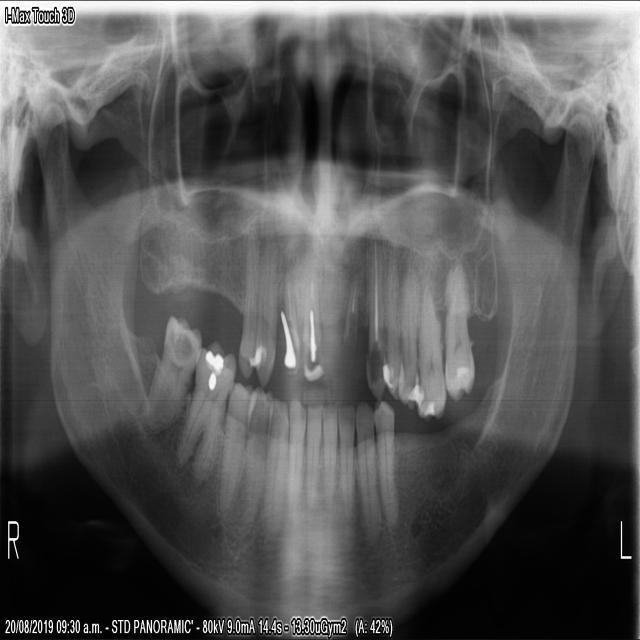LCD: (336, 393, 355, 520)
LCU: (360, 251, 392, 405)
LID: (317, 391, 337, 523), (300, 397, 322, 516)
LIU: (319, 269, 341, 379), (341, 267, 362, 355)
LMU: (416, 261, 446, 422), (443, 269, 476, 405)
LPMD: (353, 396, 382, 544), (372, 396, 400, 538)
LPMU: (397, 265, 421, 410), (381, 254, 403, 403)
RCD: (234, 383, 273, 531)
RCU: (254, 243, 279, 388)
RID: (258, 390, 287, 541), (283, 386, 307, 521)
RIU: (298, 251, 321, 388), (278, 250, 299, 373)
RMD: (142, 303, 202, 431)
RPMD: (171, 333, 233, 482), (213, 372, 252, 525)
RPMU: (235, 243, 263, 383)
